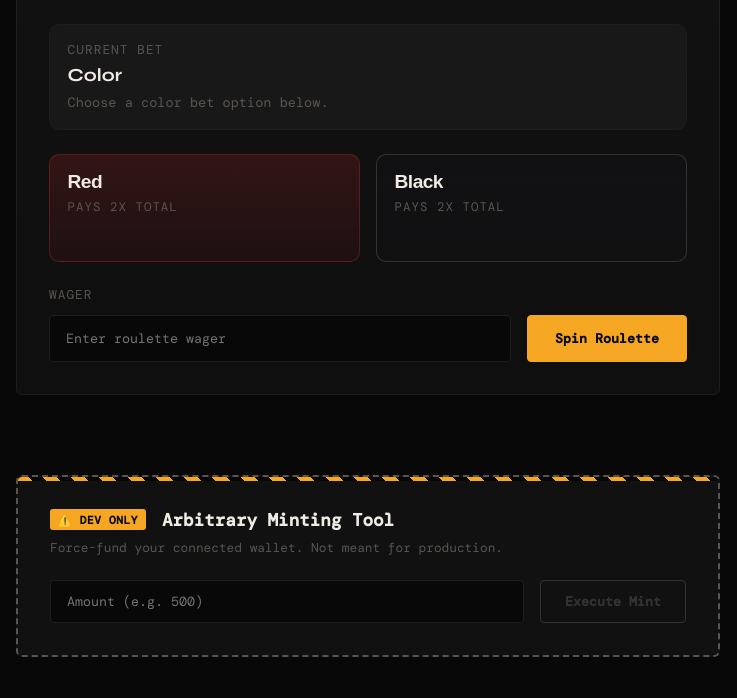
EarnPage › requires a roulette selection before spinning
(page scrolled)
Expected: the button "Spin Roulette" is shown, [527, 315, 687, 362]
Type "10" into the field with placeholder "Enter roulette wager" at (280, 338), box [49, 315, 511, 362]
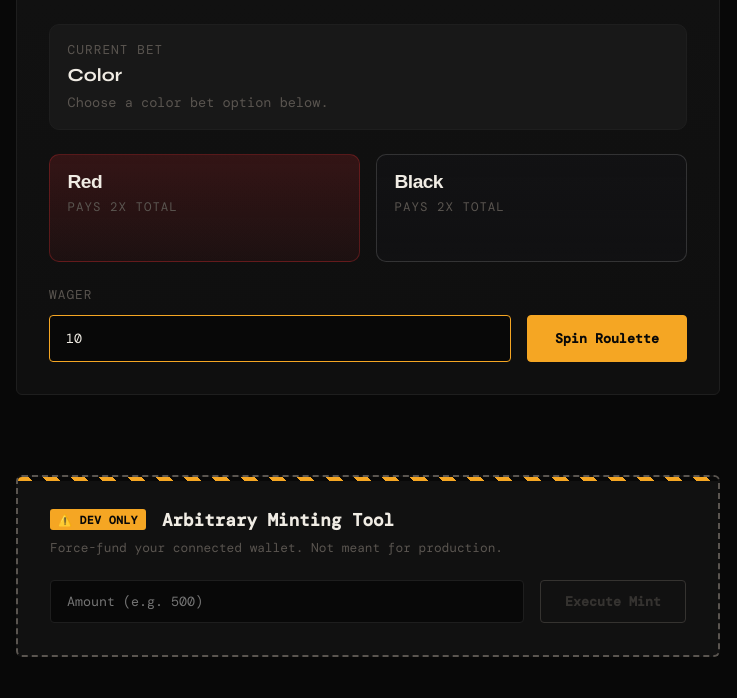
Click the button "Spin Roulette" at (607, 338), box [527, 315, 687, 362]
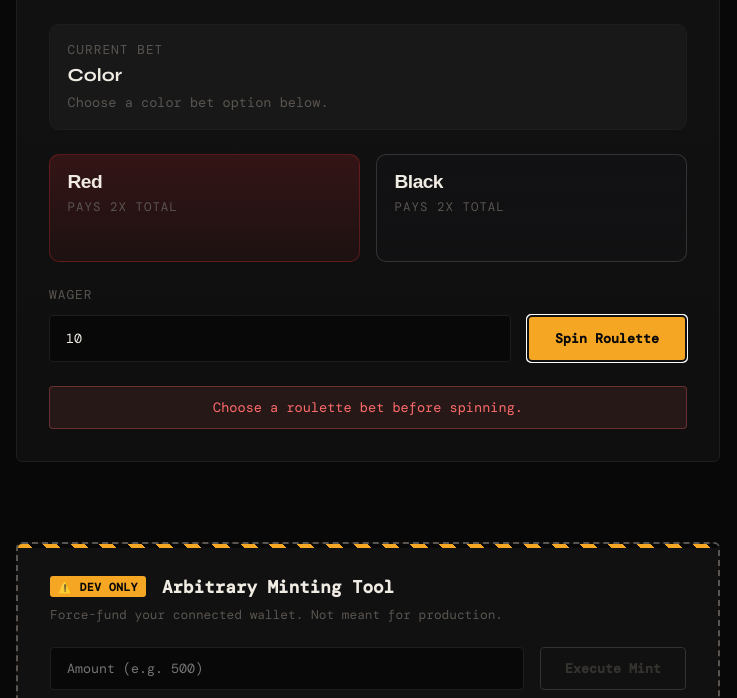
Now the text "Choose a roulette bet before spinning." is shown, box [49, 386, 687, 429]
